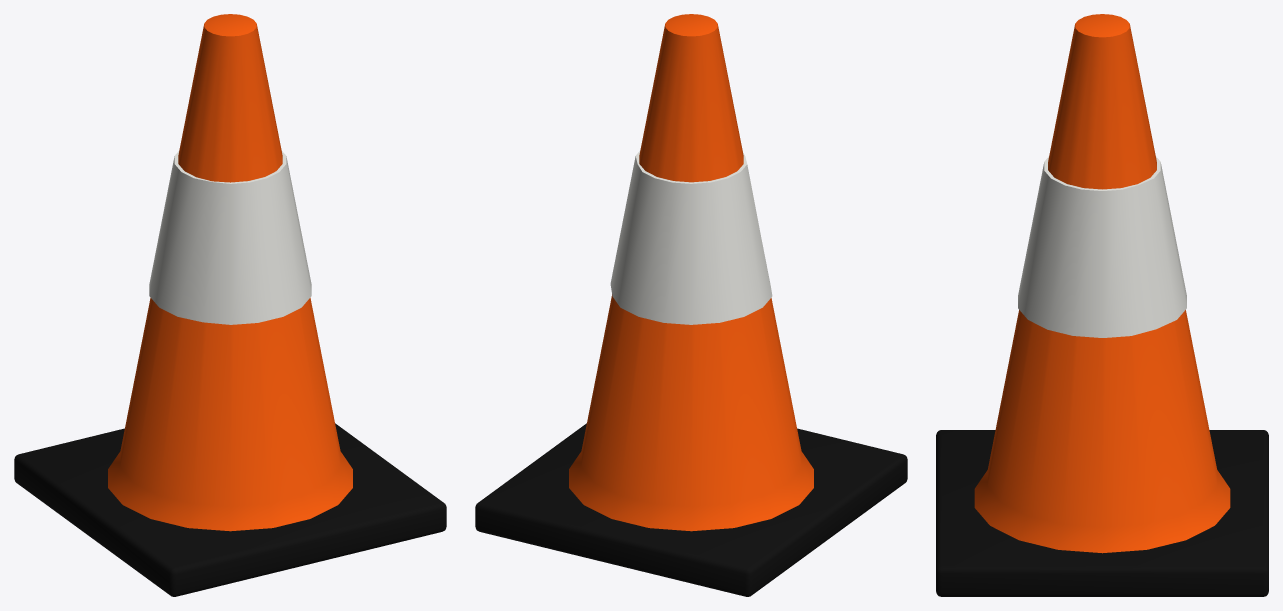
File: plant.traffic.cone_1m.glb
3 views of the same model, side by side, from view 1: azimuth 30°, elevation 25°; view 2: azimuth 150°, elevation 25°; view 3: azimuth 270°, elevation 25° (orthographic). The views are drawn at different scales.
Parts seen in each view (by area): view 1: main__hivis_orange, main__plastic_black, main__paint_white; view 2: main__hivis_orange, main__plastic_black, main__paint_white; view 3: main__hivis_orange, main__plastic_black, main__paint_white.
Boxes of the visible parts, <box> form: main__hivis_orange: <box>108,14,352,531</box>; main__plastic_black: <box>14,423,446,596</box>; main__paint_white: <box>149,151,311,324</box>; main__hivis_orange: <box>569,14,813,531</box>; main__plastic_black: <box>475,423,907,596</box>; main__paint_white: <box>610,150,772,324</box>; main__hivis_orange: <box>974,14,1230,553</box>; main__plastic_black: <box>936,430,1268,596</box>; main__paint_white: <box>1018,156,1186,337</box>.
Size of the model in its own units: 0.6 by 1 by 0.6.
